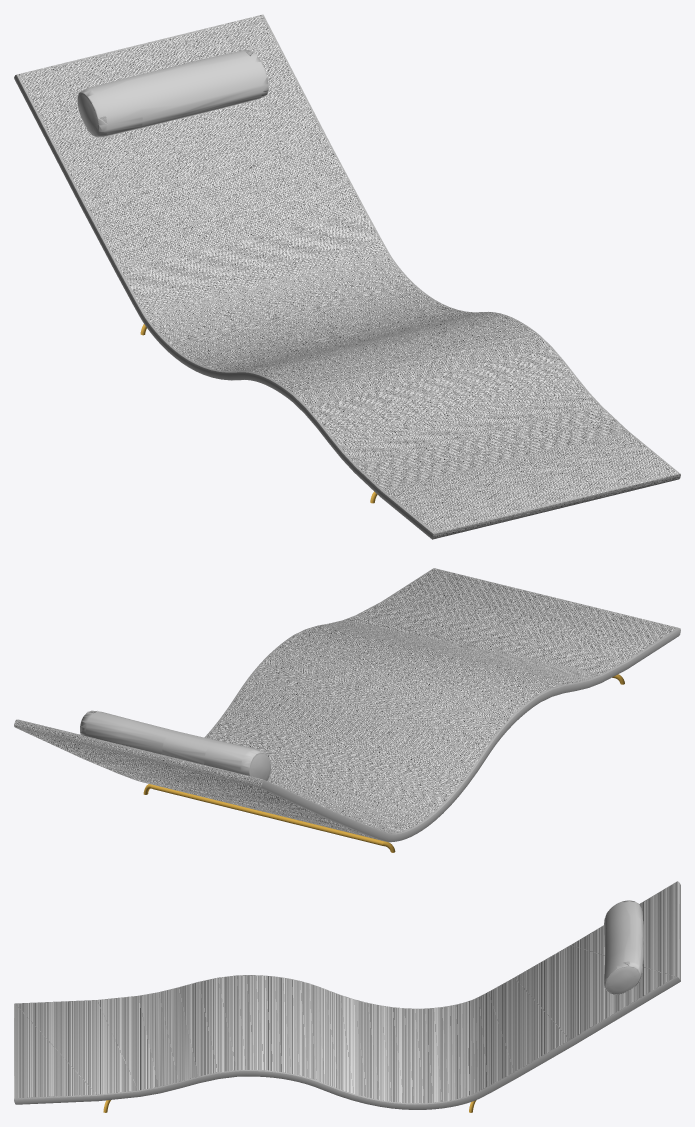
The model's file is silla_alberca.obj.
3 renders of one model, top to bottom at view 1: azimuth 30°, elevation 25°; view 2: azimuth 150°, elevation 25°; view 3: azimuth 270°, elevation 25°, orthographic. The views are drawn at different scales.
Visible parts, largest first — view 1: object 3, cojin; view 2: object 3, cojin, patas; view 3: object 3, cojin.
Part boxes in pixels (<box>): object 3: <box>14,14,680,539</box>; cojin: <box>77,50,268,137</box>; object 3: <box>14,568,680,842</box>; cojin: <box>80,710,270,780</box>; patas: <box>143,674,624,852</box>; object 3: <box>14,881,680,1109</box>; cojin: <box>604,900,643,994</box>.
Bounding box in the file's own units: 5.88 × 3.77 × 16.87.
